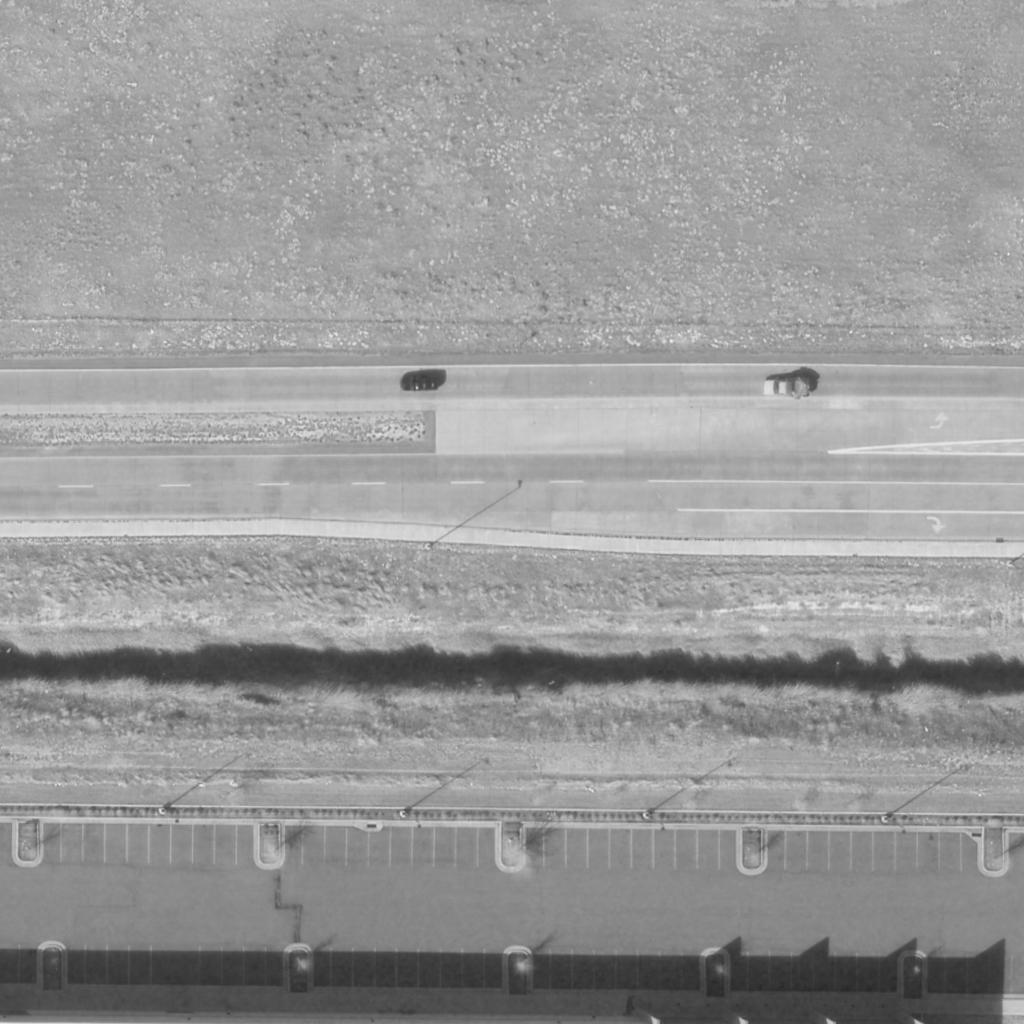vehicle: (762, 375, 812, 397), (400, 376, 440, 392)
